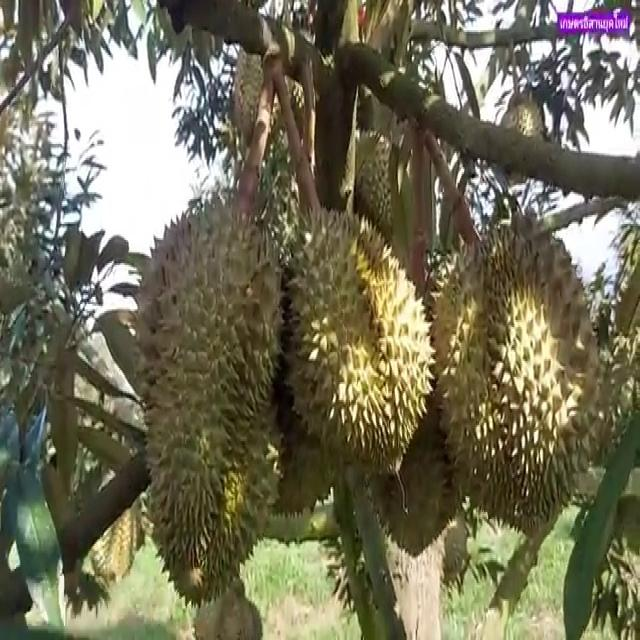durian: (132, 187, 294, 614), (424, 207, 606, 539), (277, 200, 437, 477), (229, 11, 288, 153), (495, 90, 548, 192)
